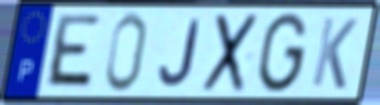0: (104, 10, 149, 95)
E: (42, 12, 104, 92)
G: (254, 11, 310, 96)
J: (157, 17, 203, 88)
K: (309, 15, 360, 92)
X: (199, 11, 262, 95)
